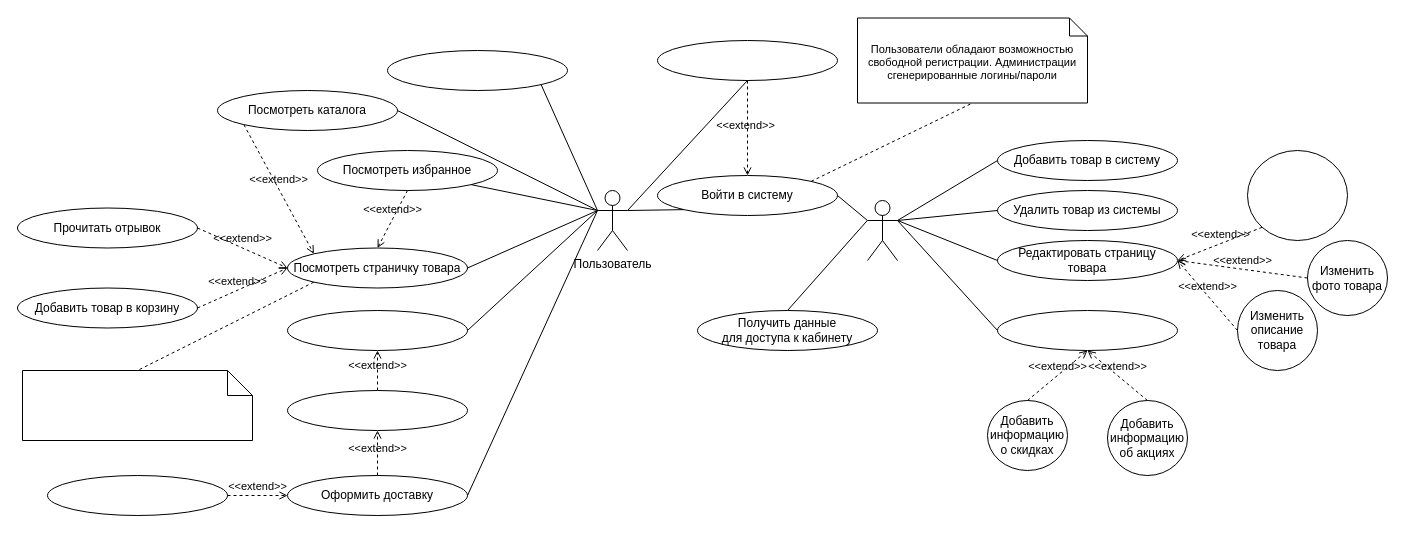
The diagram is 1405 pixels wide and 533 high, and some of its shapes have lost their labels. The shapes that lost their labels are listed below. From the top down, each one's box as (x1, y1, x2, y2) in pixels, then its label:
(386, 50, 568, 90): Проверить личный кабинет
(656, 40, 838, 80): Зарегетрироваться в системе
(1246, 150, 1348, 240): Модерация отзывов на странице товаров
(866, 200, 898, 260): Администратор
(286, 310, 468, 350): Посмотреть корзину
(996, 310, 1178, 350): Редактировать новостную ленту
(22, 370, 252, 440): Доступ к странице товара возможен из нескольких окон приложения
(286, 390, 468, 430): Оформить заказ
(46, 474, 228, 516): Уточнить параметры доставки
